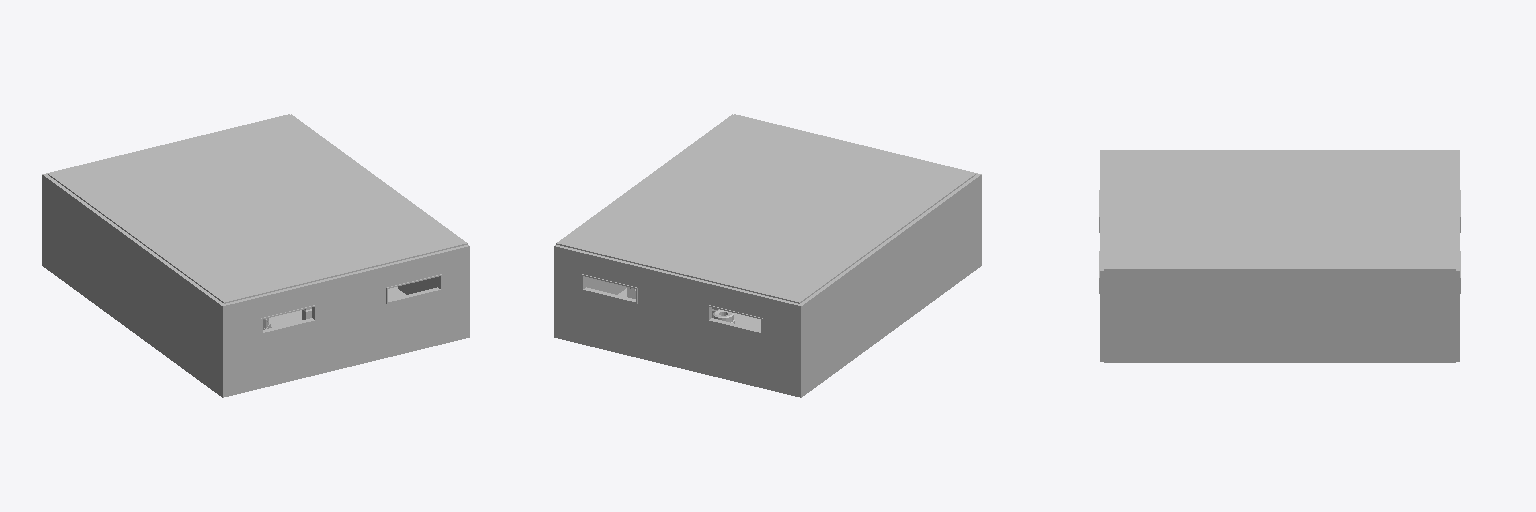
Rendered from garage_scaled.obj.
3 views of the same model, side by side, from view 1: azimuth 30°, elevation 25°; view 2: azimuth 150°, elevation 25°; view 3: azimuth 270°, elevation 25° (orthographic).
Parts seen in each view (by area): view 1: Floor, Wall, Windows; view 2: Floor, Wall, Windows; view 3: Floor, Wall, Door.
Boxes of the visible parts, <box> form: Floor: <box>48,114,467,303</box>; Wall: <box>42,114,469,397</box>; Windows: <box>261,274,441,334</box>; Floor: <box>556,114,975,303</box>; Wall: <box>554,114,981,397</box>; Windows: <box>582,274,762,334</box>; Floor: <box>1104,150,1455,270</box>; Wall: <box>1100,150,1459,361</box>; Door: <box>1236,307,1318,361</box>.
Size of the model in its own units: 55.32 by 20.13 by 70.31.